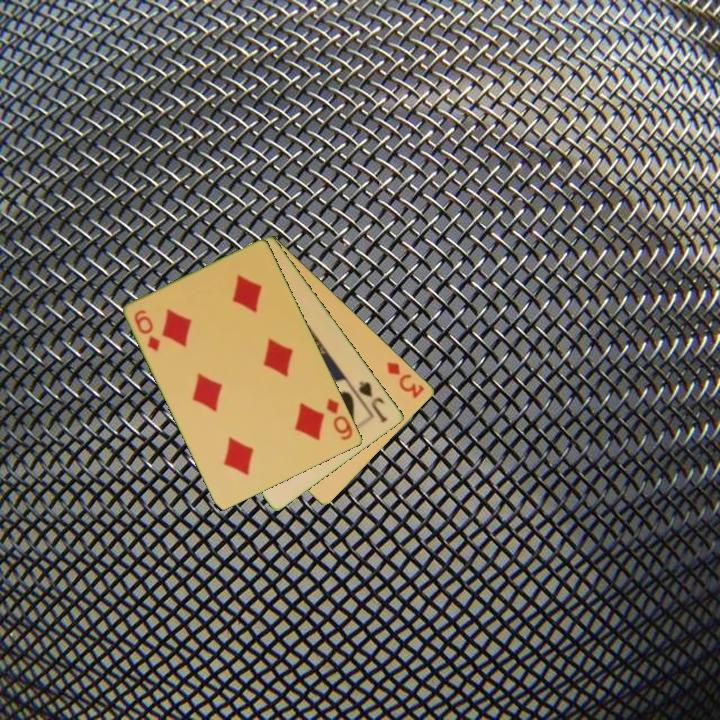3d: (384, 358, 428, 402)
6d: (323, 394, 356, 443), (131, 306, 164, 354)
Js: (355, 377, 391, 426)
